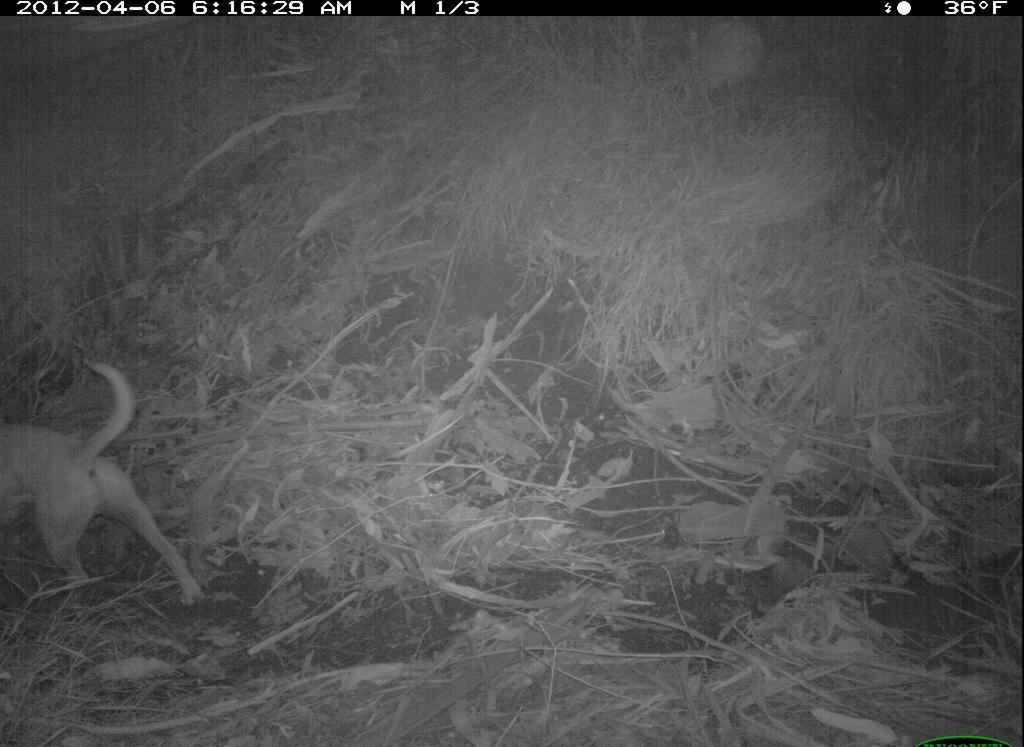dog: (12, 353, 210, 616)
